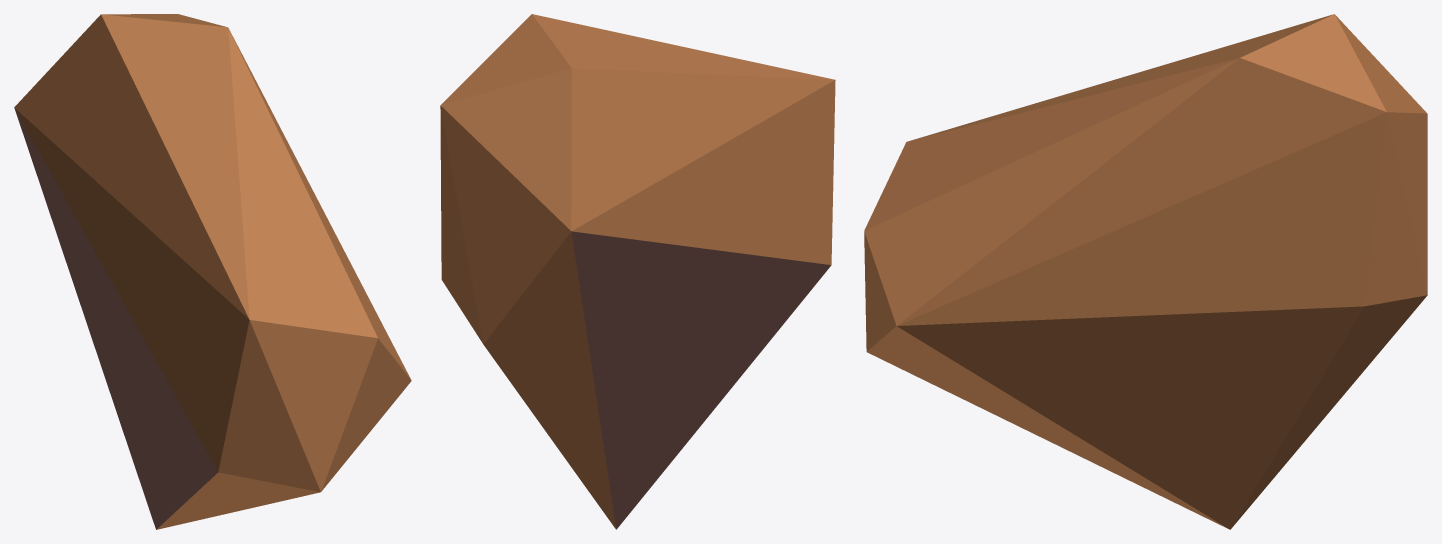
File: Willow_Autumn_5.lod4.glb
3 renders of one model, left to right at view 1: azimuth 30°, elevation 25°; view 2: azimuth 150°, elevation 25°; view 3: azimuth 270°, elevation 25°, orthographic. The views are drawn at different scales.
Visible parts, largest first — view 1: Willow_Autumn_5; view 2: Willow_Autumn_5; view 3: Willow_Autumn_5.
Boxes of the visible parts, box(x1,y1,x2,y2) form: Willow_Autumn_5: box(14, 14, 411, 529); Willow_Autumn_5: box(440, 14, 835, 529); Willow_Autumn_5: box(864, 14, 1427, 529).
Bounding box in the file's own units: 0.9536 × 2.47 × 2.46.
